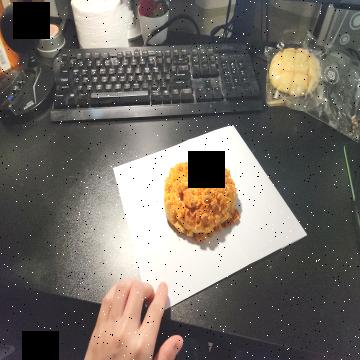soboru_bread: (162, 154, 241, 243)
